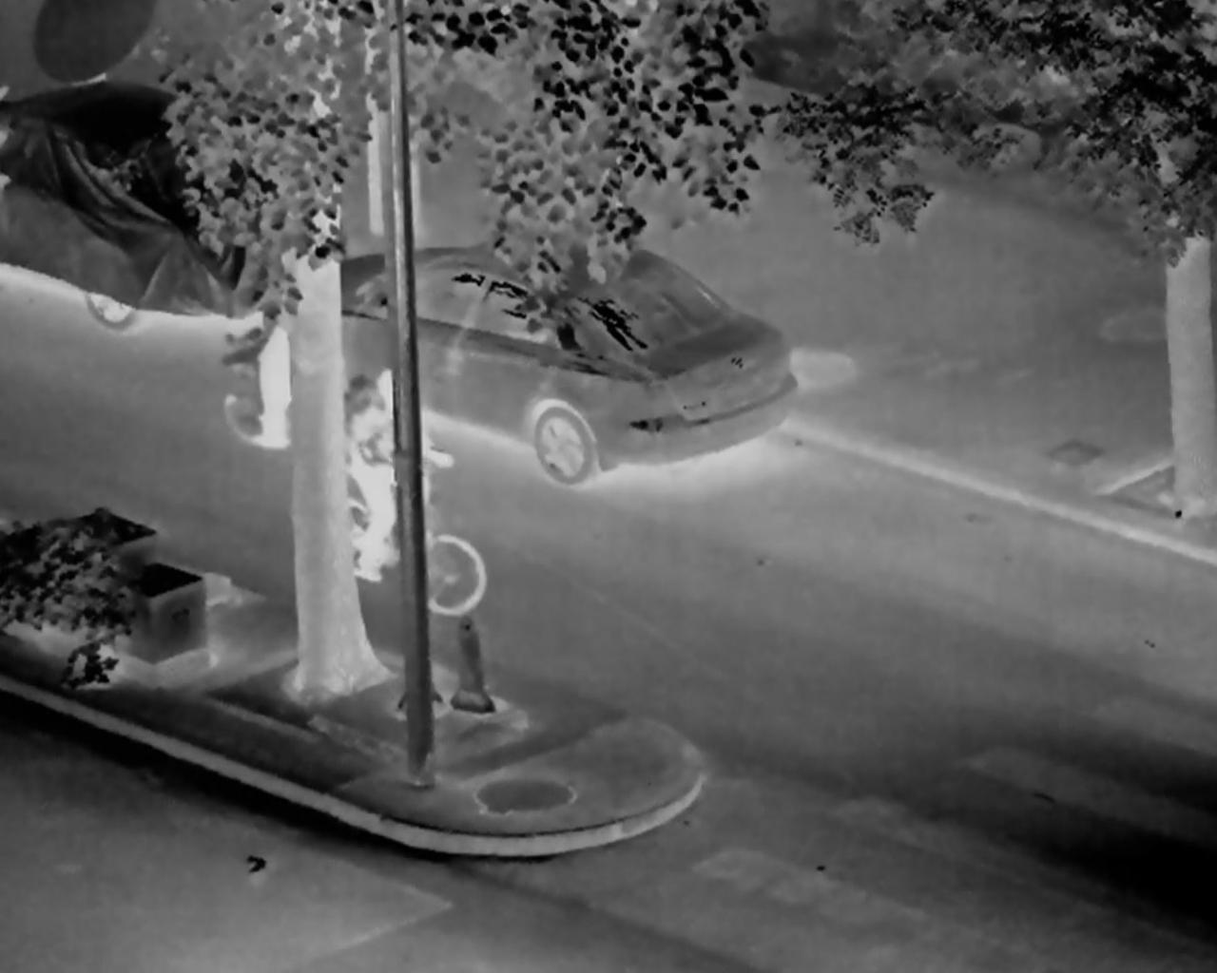person: (340, 370, 454, 577), (255, 296, 342, 449)
